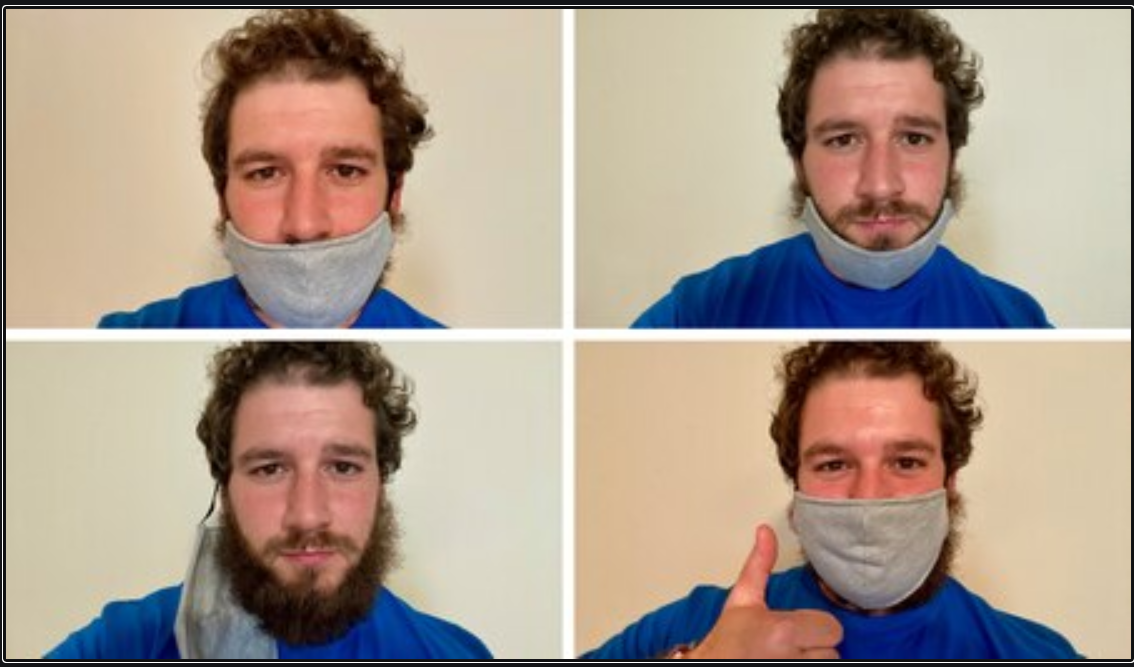mask_weared_incorrect: (209, 87, 406, 323), (797, 80, 964, 293)
with_mask: (796, 402, 960, 611)
without_mask: (228, 416, 385, 603)
